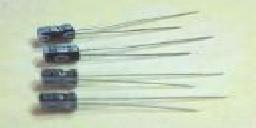Electrolytic-Capacitor: (34, 10, 205, 44), (33, 91, 239, 117), (35, 68, 231, 92), (39, 44, 202, 63)
